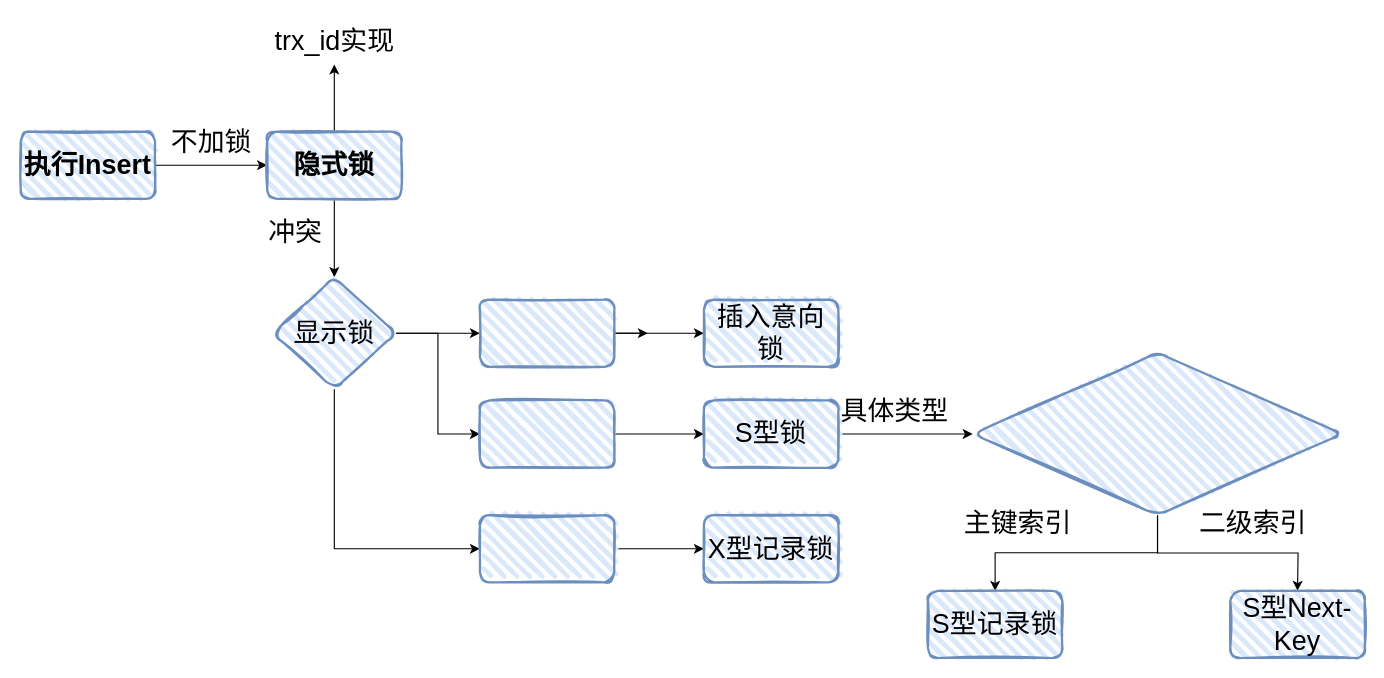
This 1384x678 diagram has some shape labels left out. Here are the shapes that lost their labels. From the top down, the box of each, then its label:
(478, 298, 615, 367): 有间隙锁
(478, 399, 615, 468): 唯一键内容冲突
(971, 351, 1343, 516): 唯一键是主键索引还是二级索引
(478, 514, 615, 583): 成功插入
